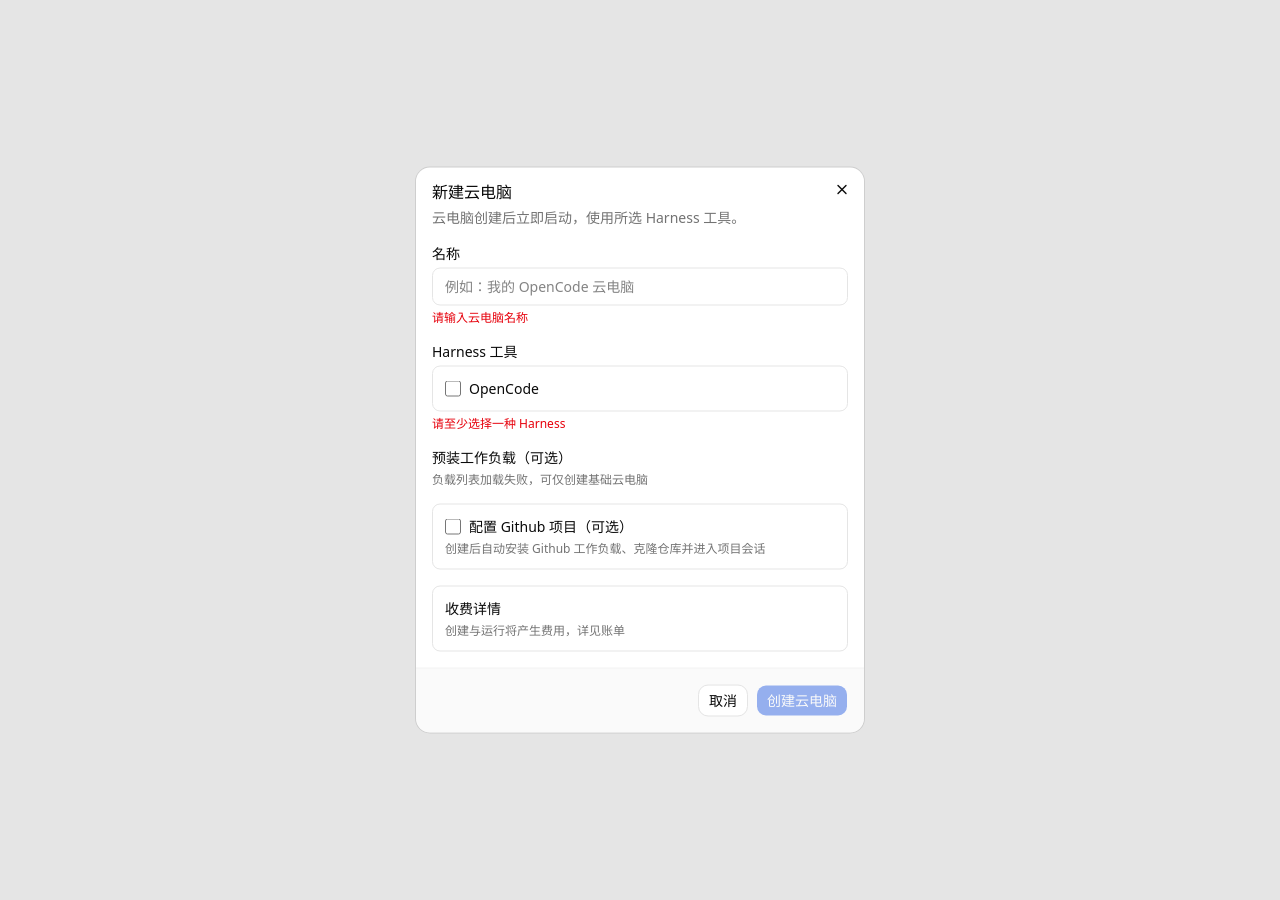
NewCloudHostDialog › T-AW17: 报价查询失败时降级提示且不阻断提交
The width and height of the screenshot is (1280, 900).
Expected: the text "创建与运行将产生费用，详见账单" is shown, [445,622,625,638]
Type "云电脑 A" into the field labelled "名称".
click(640, 286); type("云电脑 A")  # box [432,268,848,306]
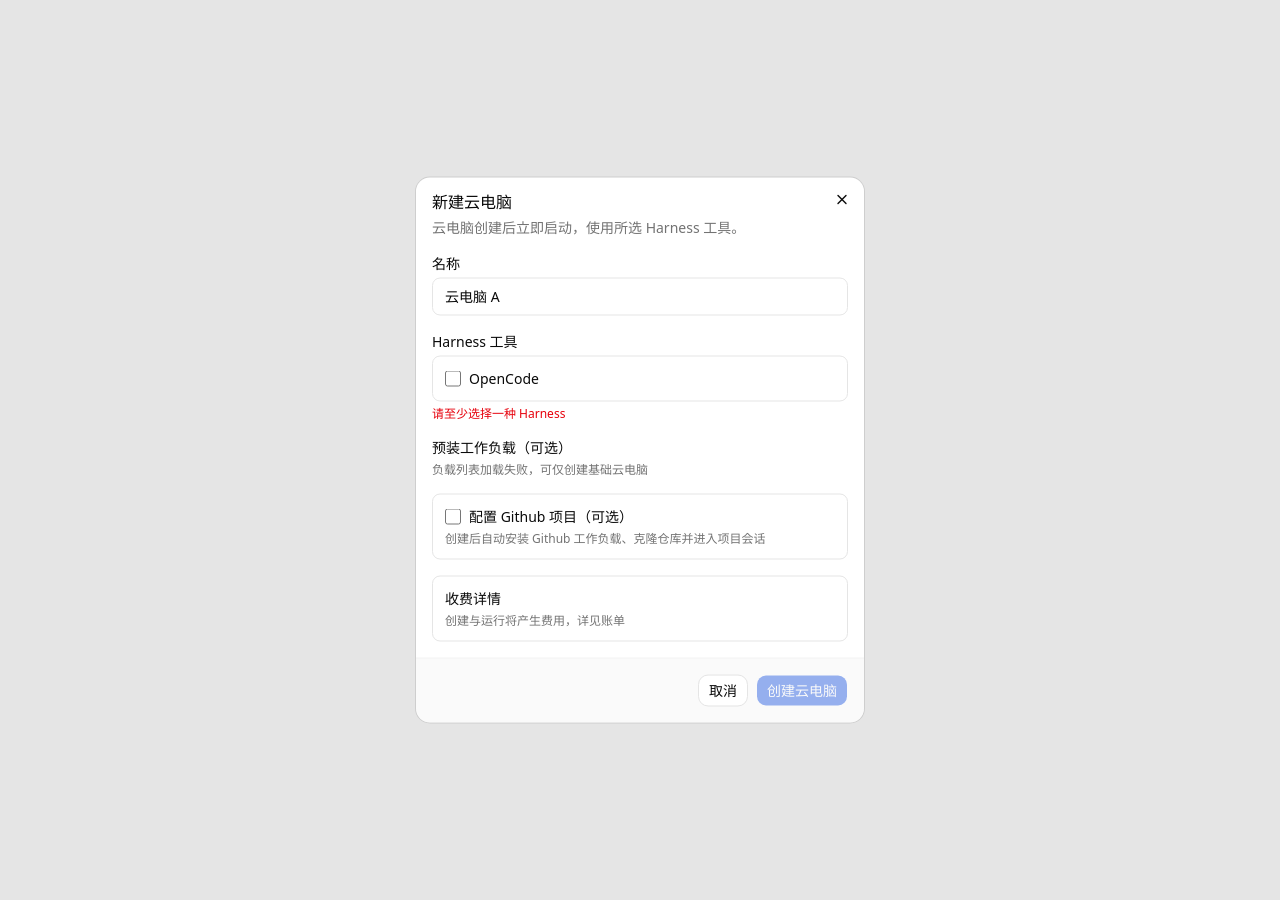
Click the checkbox labelled "OpenCode".
click(453, 378)  # box [445,370,461,386]
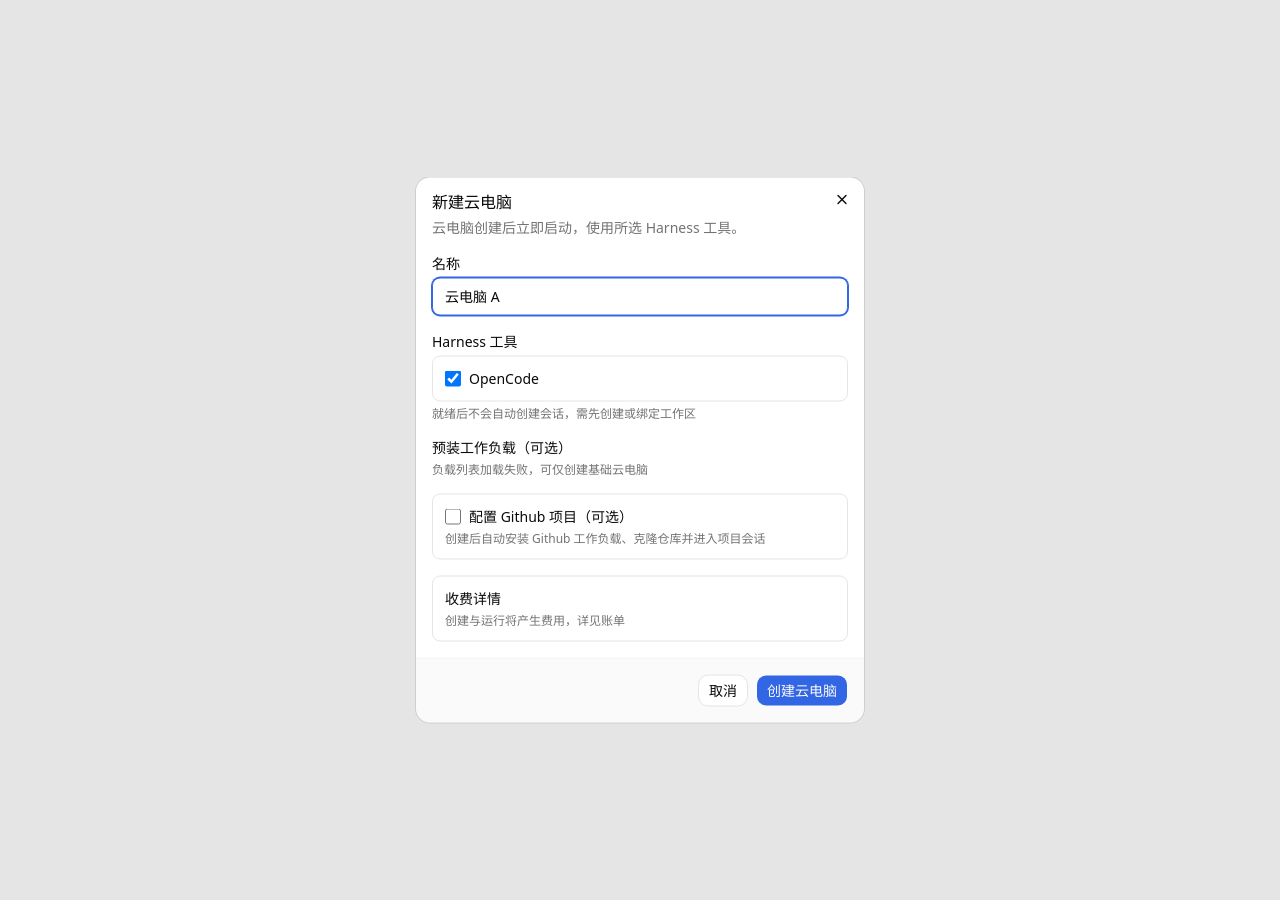
Now the button "创建云电脑" is enabled, box [756,674,848,706]
